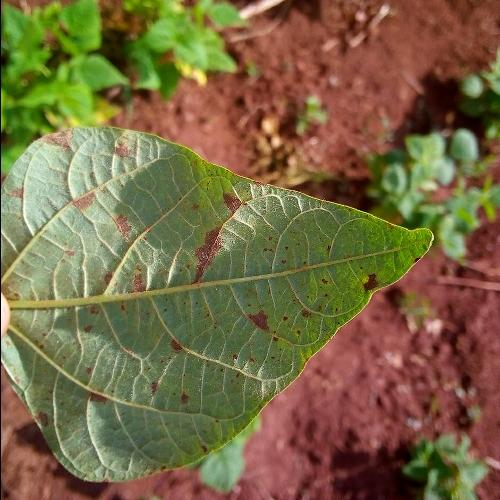hawar: (73, 308, 201, 438), (54, 172, 159, 301), (180, 176, 228, 294), (36, 119, 158, 159), (239, 305, 278, 341), (348, 264, 398, 291)
